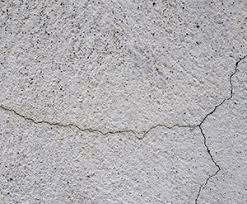crack: (0, 103, 197, 136), (199, 52, 246, 123), (192, 124, 220, 203)
